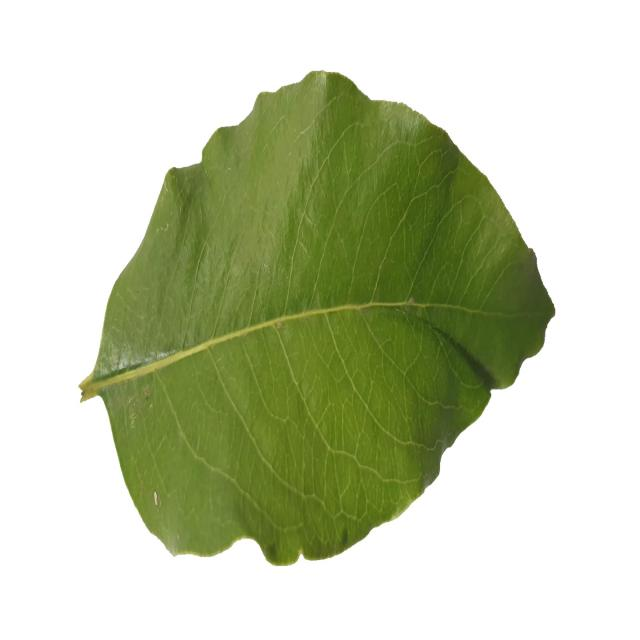Medicinal-Sandalwood: (81, 69, 557, 562)
